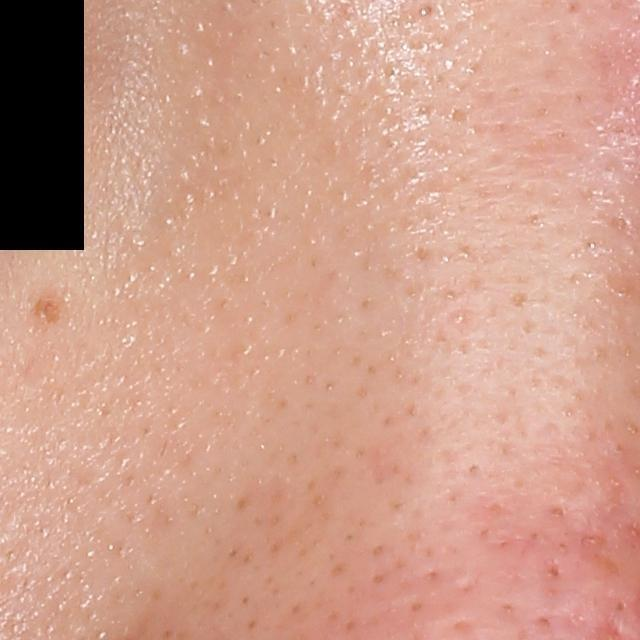comedo: (546, 503, 567, 521), (611, 596, 631, 614)
nevus: (31, 295, 62, 324)
